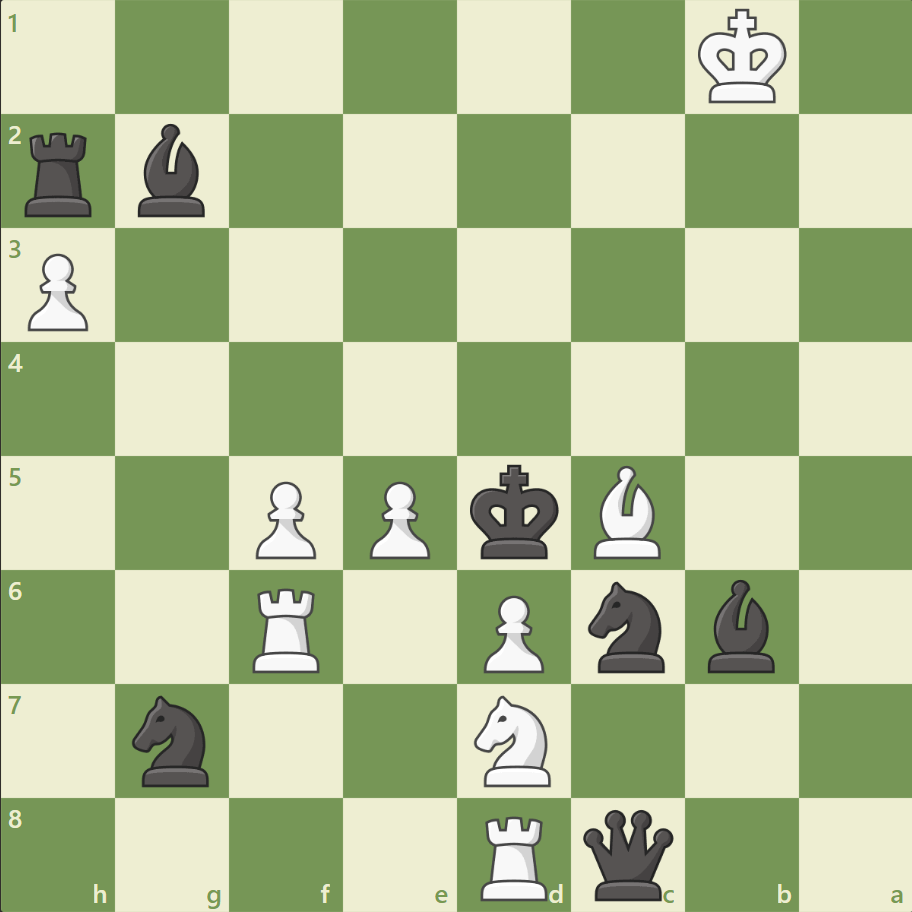B: (585, 460, 669, 563)
K: (692, 4, 792, 112)
N: (465, 688, 562, 791)
P: (474, 586, 549, 677), (247, 473, 322, 564), (20, 246, 95, 337), (361, 473, 435, 564)
R: (473, 806, 556, 904), (246, 579, 329, 676)
b: (698, 574, 782, 676), (131, 120, 215, 222)
k: (465, 458, 565, 566)
n: (124, 688, 222, 791), (579, 575, 676, 677)
q: (578, 804, 677, 903)
r: (19, 125, 102, 222)
